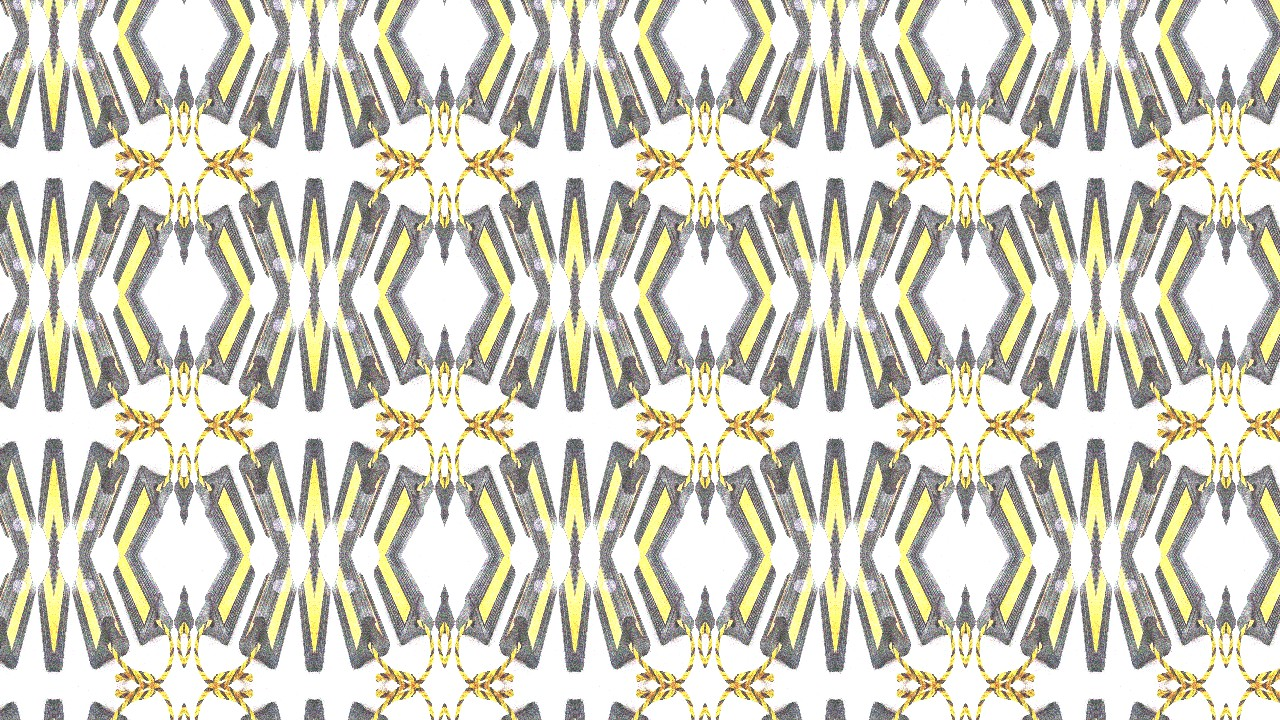chock: (67, 178, 130, 295), (236, 178, 299, 295), (328, 178, 391, 295), (497, 178, 560, 295), (589, 178, 652, 295), (758, 178, 821, 295), (850, 178, 913, 295), (1019, 178, 1082, 295), (1111, 178, 1174, 295), (67, 439, 130, 556), (236, 439, 299, 556), (328, 439, 391, 556), (497, 439, 560, 556), (589, 439, 652, 556), (758, 439, 821, 556), (850, 439, 913, 556), (1019, 439, 1082, 556), (1111, 439, 1174, 556), (67, 34, 130, 150), (236, 34, 299, 150), (328, 34, 391, 150), (497, 34, 560, 150), (589, 34, 652, 150), (758, 34, 821, 150), (850, 34, 913, 150), (1019, 34, 1082, 150), (1111, 34, 1174, 150), (67, 295, 130, 411), (236, 295, 299, 411), (328, 295, 391, 411), (497, 295, 560, 411), (589, 295, 652, 411), (758, 295, 821, 411), (850, 295, 913, 411), (1019, 295, 1082, 411), (1111, 295, 1174, 411), (67, 556, 130, 672), (236, 556, 299, 672), (328, 556, 391, 672), (497, 556, 560, 672), (589, 556, 652, 672), (758, 556, 821, 672), (850, 556, 913, 672), (1019, 556, 1082, 672), (1111, 556, 1174, 672), (192, 34, 258, 126), (453, 34, 519, 126), (714, 34, 780, 126), (975, 34, 1041, 126), (192, 203, 258, 295), (453, 203, 519, 295), (714, 203, 780, 295), (975, 203, 1041, 295), (192, 295, 258, 387), (453, 295, 519, 387), (714, 295, 780, 387), (975, 295, 1041, 387), (192, 464, 258, 556), (453, 464, 519, 556), (714, 464, 780, 556), (975, 464, 1041, 556), (192, 556, 258, 648), (453, 556, 519, 648), (714, 556, 780, 648), (975, 556, 1041, 648), (109, 34, 174, 126), (370, 34, 435, 126), (631, 34, 696, 126), (892, 34, 957, 126), (1153, 34, 1218, 126), (109, 203, 174, 295), (370, 203, 435, 295), (631, 203, 696, 295), (892, 203, 957, 295), (1153, 203, 1218, 295), (109, 295, 174, 387), (370, 295, 435, 387), (631, 295, 696, 387), (892, 295, 957, 387), (1153, 295, 1218, 387), (109, 464, 174, 556), (370, 464, 435, 556), (631, 464, 696, 556), (892, 464, 957, 556), (1153, 464, 1218, 556), (109, 556, 174, 648), (370, 556, 435, 648), (631, 556, 696, 648), (892, 556, 957, 648), (1153, 556, 1218, 648), (0, 178, 38, 295), (0, 439, 38, 556), (0, 34, 38, 150), (0, 295, 38, 411), (0, 556, 38, 672), (1236, 34, 1280, 126), (1236, 203, 1280, 295), (1236, 295, 1280, 387), (1236, 464, 1280, 556), (1236, 556, 1280, 648), (30, 34, 53, 155), (291, 34, 314, 155), (552, 34, 575, 155), (813, 34, 836, 155), (1074, 34, 1097, 155), (30, 174, 53, 295), (291, 174, 314, 295), (552, 174, 575, 295), (813, 174, 836, 295), (1074, 174, 1097, 295), (30, 295, 53, 416), (291, 295, 314, 416), (552, 295, 575, 416), (813, 295, 836, 416), (1074, 295, 1097, 416), (30, 435, 53, 556), (291, 435, 314, 556), (552, 435, 575, 556), (813, 435, 836, 556), (1074, 435, 1097, 556), (30, 556, 53, 677), (291, 556, 314, 677), (552, 556, 575, 677), (813, 556, 836, 677), (1074, 556, 1097, 677), (53, 34, 75, 155), (314, 34, 336, 155), (575, 34, 597, 155), (836, 34, 858, 155), (1097, 34, 1119, 155), (53, 174, 75, 295), (314, 174, 336, 295), (575, 174, 597, 295), (836, 174, 858, 295), (1097, 174, 1119, 295), (53, 295, 75, 416), (314, 295, 336, 416), (575, 295, 597, 416), (836, 295, 858, 416), (1097, 295, 1119, 416), (53, 435, 75, 556), (314, 435, 336, 556), (575, 435, 597, 556), (836, 435, 858, 556), (1097, 435, 1119, 556), (53, 556, 75, 677), (314, 556, 336, 677), (575, 556, 597, 677), (836, 556, 858, 677), (1097, 556, 1119, 677), (192, 0, 258, 34), (453, 0, 519, 34), (714, 0, 780, 34), (975, 0, 1041, 34), (109, 0, 174, 34), (370, 0, 435, 34), (631, 0, 696, 34), (892, 0, 957, 34), (1153, 0, 1218, 34), (67, 0, 130, 34), (236, 0, 299, 34), (328, 0, 391, 34), (497, 0, 560, 34), (589, 0, 652, 34), (758, 0, 821, 34), (850, 0, 913, 34), (1019, 0, 1082, 34), (1111, 0, 1174, 34), (1236, 0, 1280, 34), (0, 0, 38, 34), (67, 700, 130, 720), (236, 700, 299, 720), (328, 700, 391, 720), (497, 700, 560, 720), (589, 700, 652, 720), (758, 700, 821, 720), (850, 700, 913, 720), (1019, 700, 1082, 720), (1111, 700, 1174, 720), (30, 0, 53, 34), (291, 0, 314, 34), (552, 0, 575, 34), (813, 0, 836, 34), (1074, 0, 1097, 34), (0, 700, 38, 720), (53, 0, 75, 34), (314, 0, 336, 34), (575, 0, 597, 34), (836, 0, 858, 34), (1097, 0, 1119, 34), (30, 696, 53, 720), (291, 696, 314, 720), (552, 696, 575, 720), (813, 696, 836, 720), (1074, 696, 1097, 720), (53, 696, 75, 720), (314, 696, 336, 720), (575, 696, 597, 720), (836, 696, 858, 720), (1097, 696, 1119, 720)
